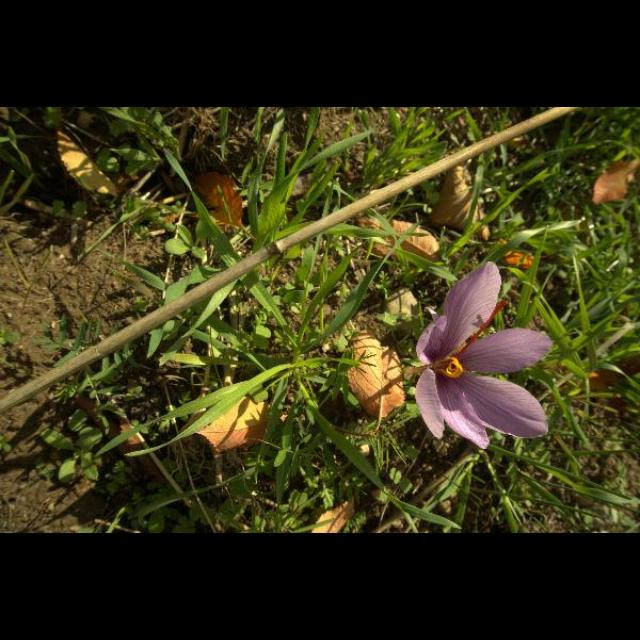flower: (414, 261, 556, 451)
